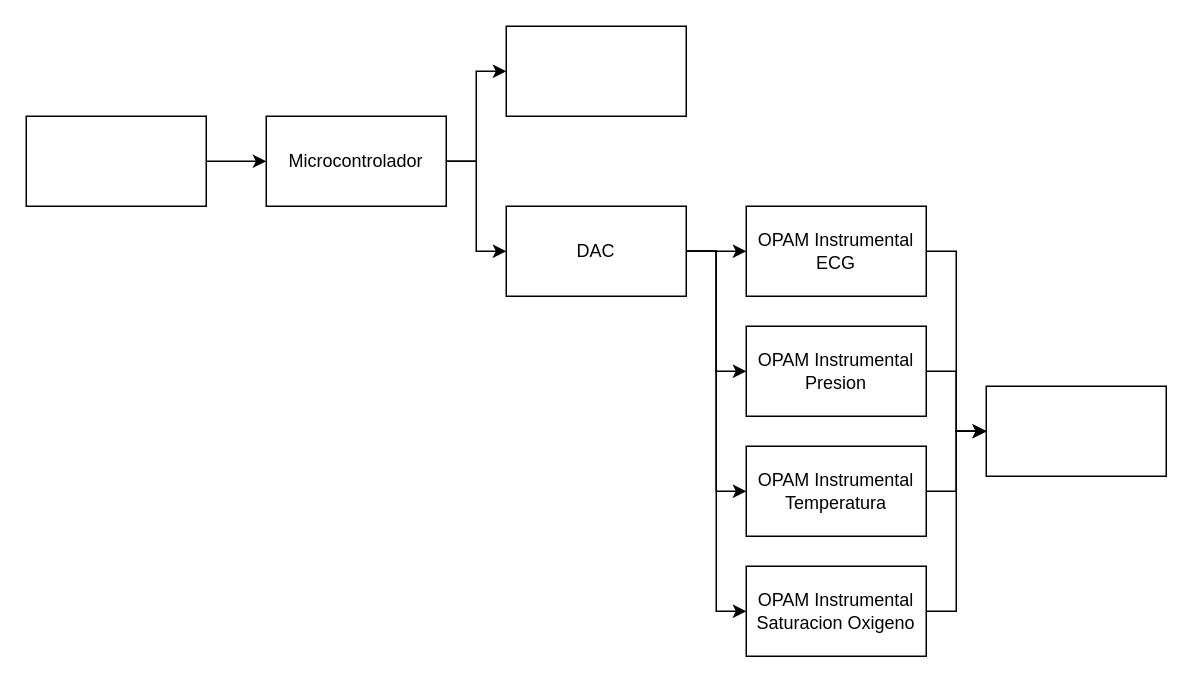
Image size: 1193x683. Some labels were removed from this diagram. Here are the shapes that lost their labels. From the top down, the centre of each, then its label:
At pixel 595 70: "Pantalla LCD".
At pixel 115 160: "Teclado Matricial".
At pixel 1075 430: "Monitor de Signos Vitales".
